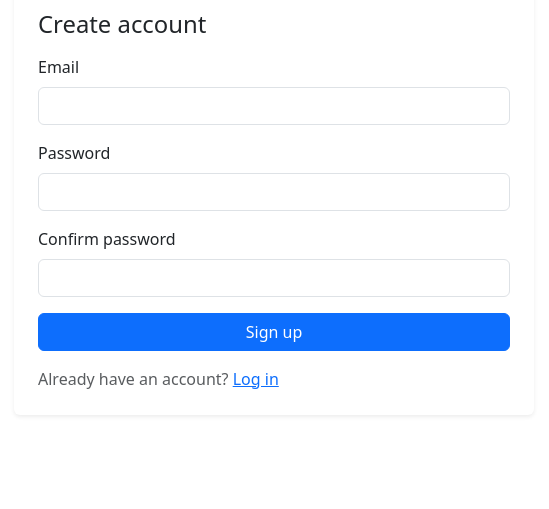
Test case: SignupPage › shows validation error when email is empty
The width and height of the screenshot is (549, 509).
Click the button "Sign up" at coordinates (274, 332), box [38,313,510,351]
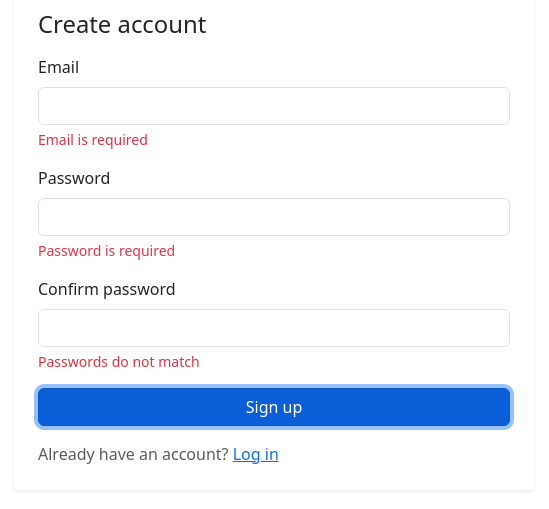
Now the text "Email is required" is shown, box [38,130,148,149]
